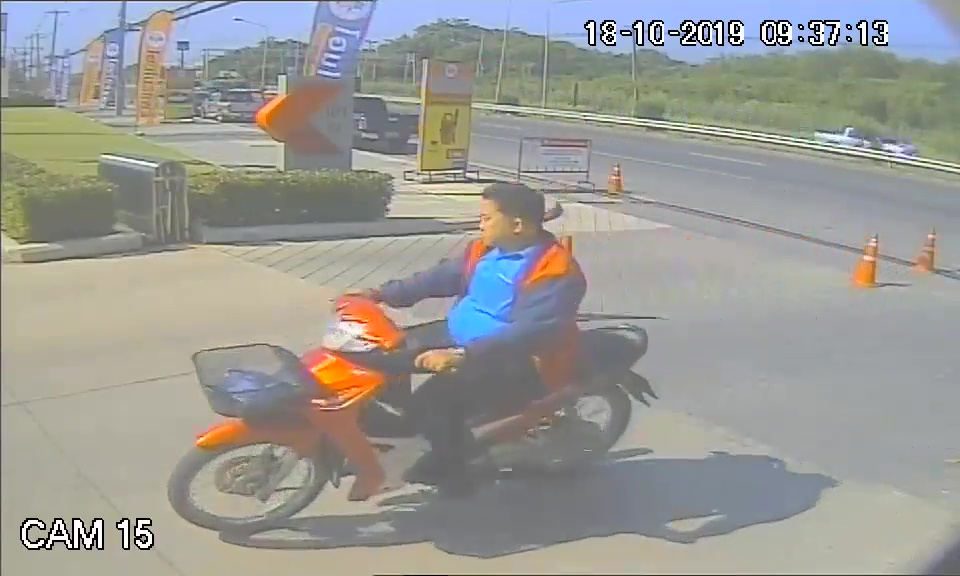motorcycle: (165, 291, 659, 536)
